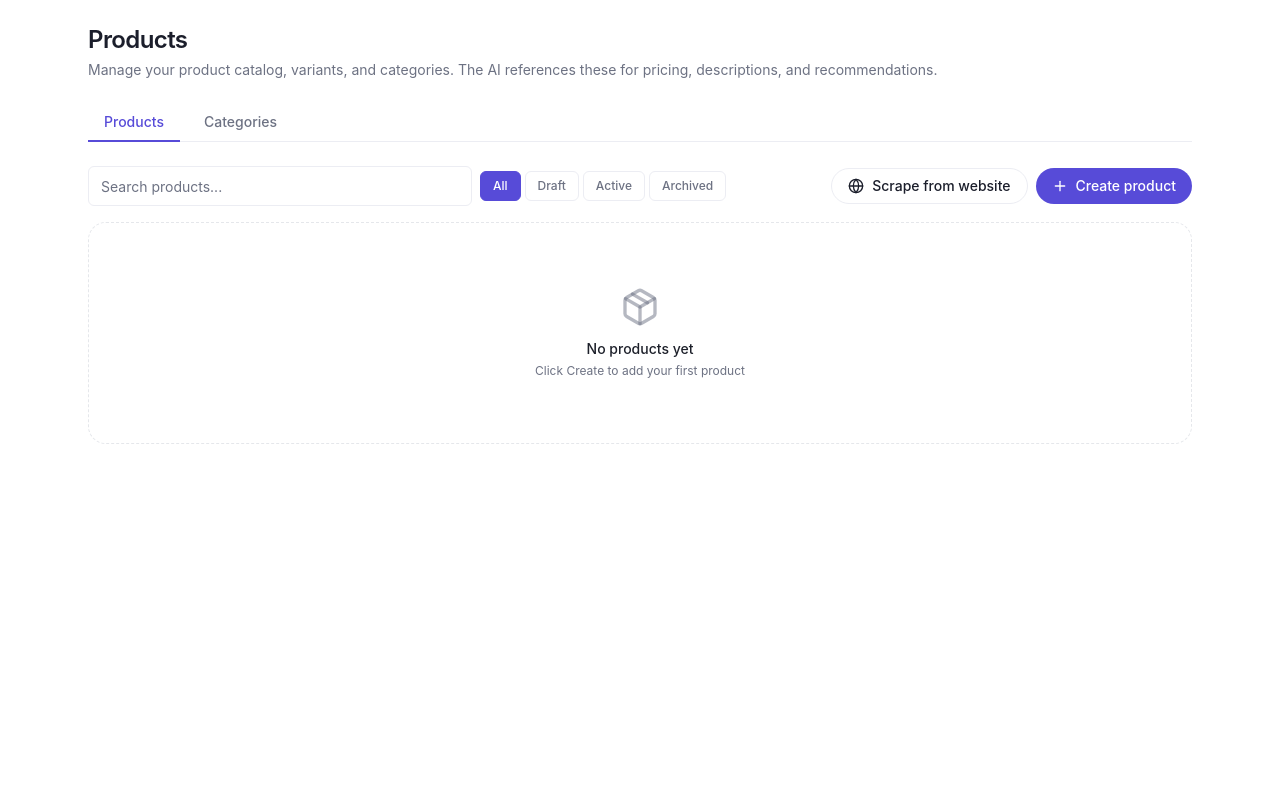
Test: KAN-1218 Scenario 2 — create modal validation › opens create modal and rejects empty name with error message
The width and height of the screenshot is (1280, 800).
Click the button "Create product". click: (1114, 186)
box: [1036,168,1192,204]
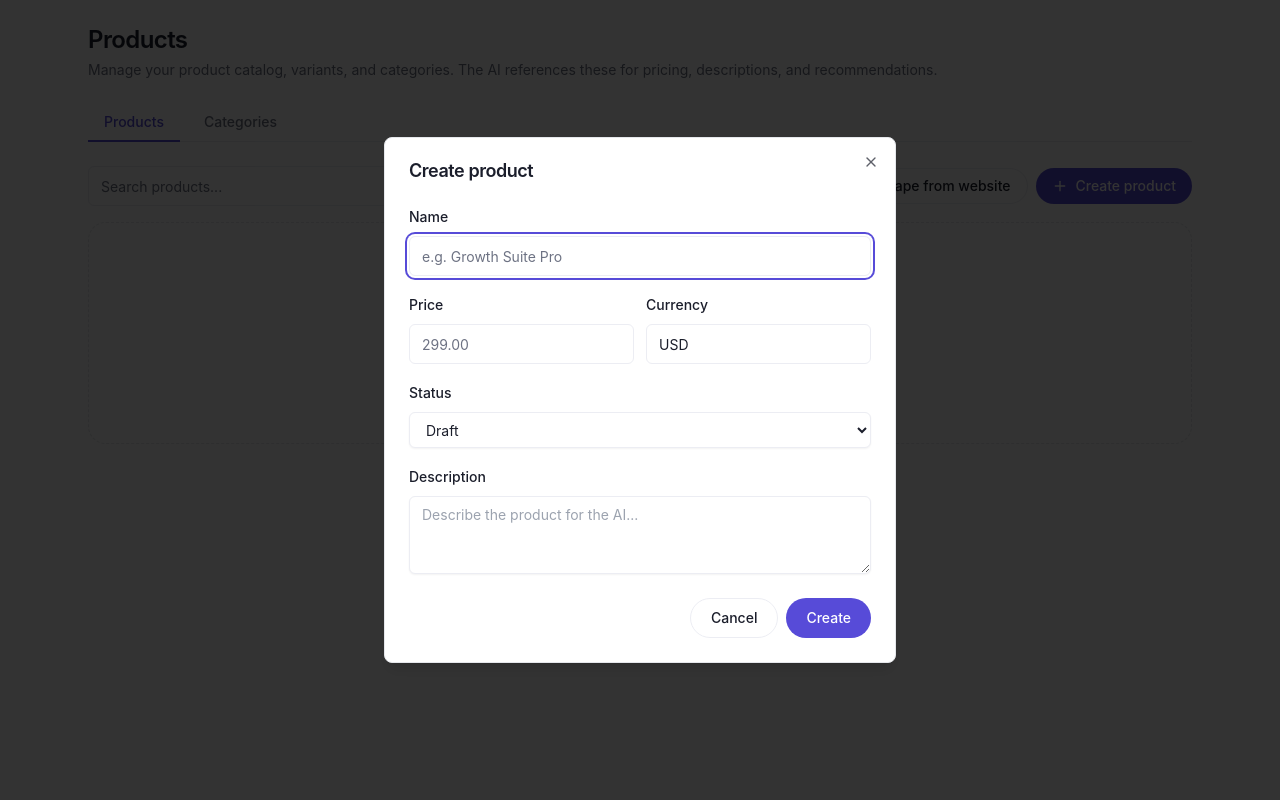
Expected: the heading "Create product" is shown, [409,160,533,181]
Click the button "Create". click: (829, 618)
box: [786,598,871,638]
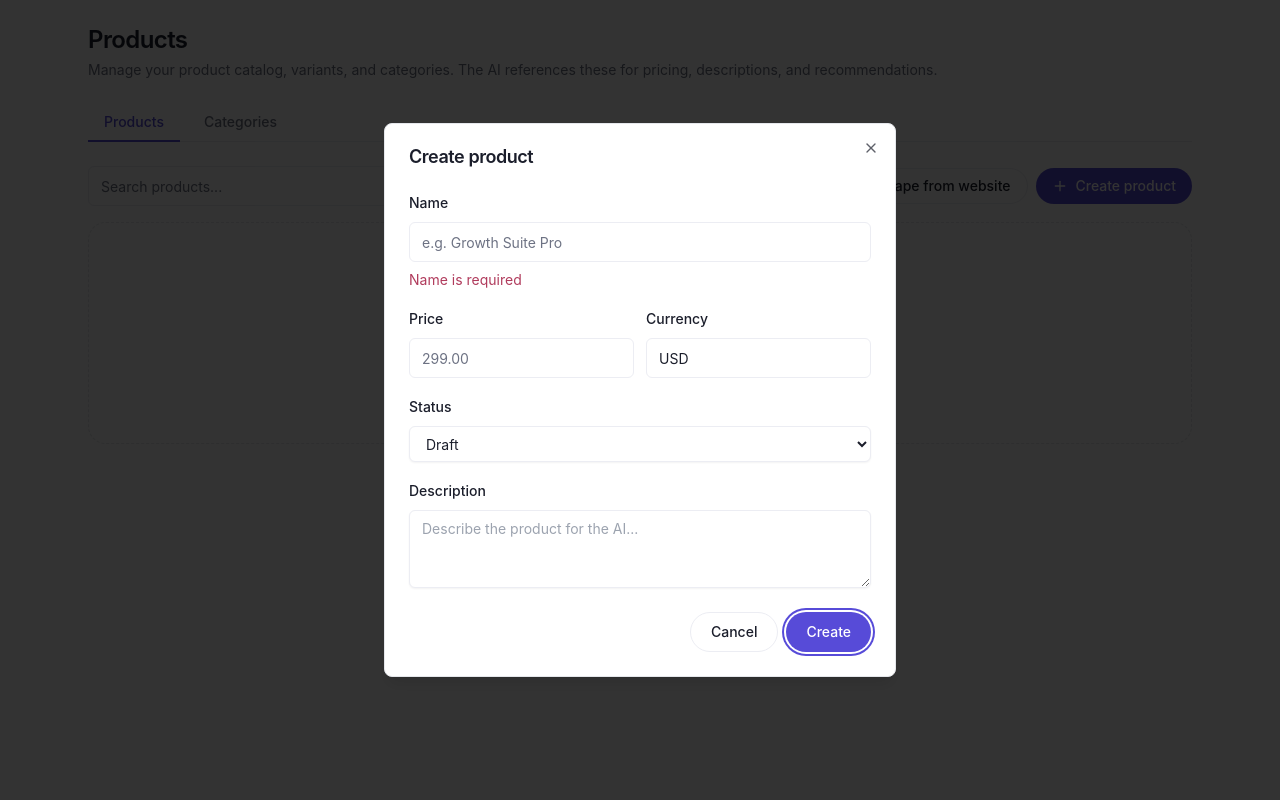
Expected: the text "Name is required" is shown, [409,271,522,288]
